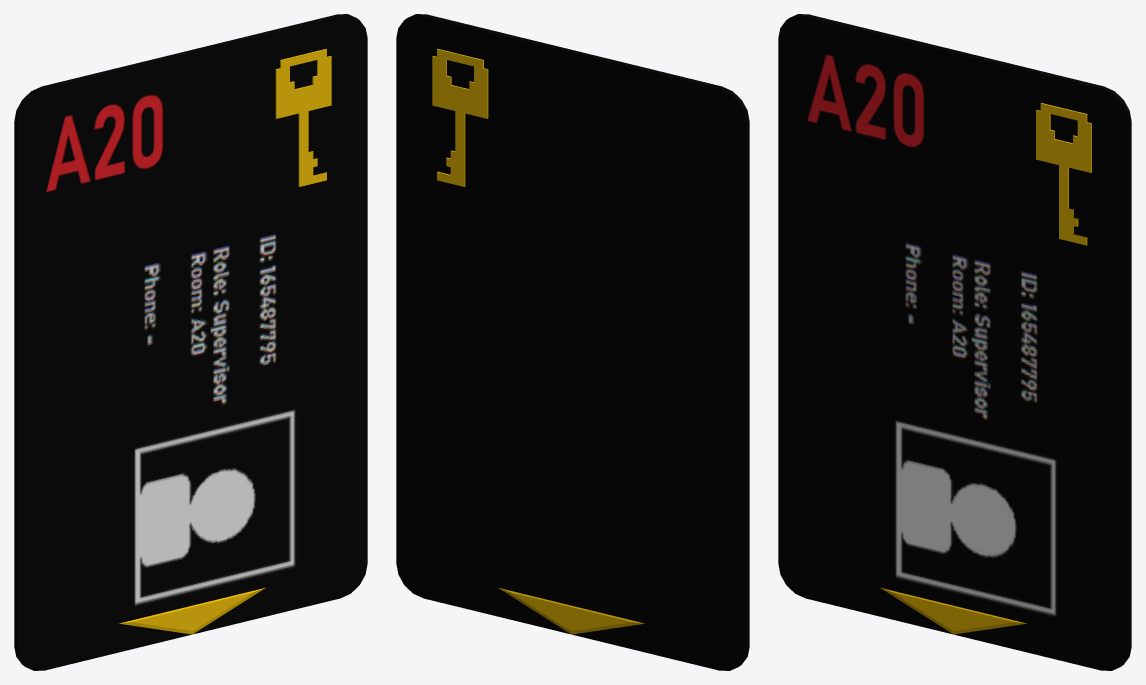
The model's file is simple_keycard.glb.
The picture shows the model from 3 angles, left to right: view 1: azimuth 30°, elevation 25°; view 2: azimuth 150°, elevation 25°; view 3: azimuth 330°, elevation 25°; orthographic projection.
Parts seen in each view (by area): view 1: Keycard; view 2: Keycard; view 3: Keycard.
Boxes of the visible parts, left/top/right/bottom form: Keycard: left=14, top=14, right=367, bottom=670; Keycard: left=396, top=14, right=749, bottom=670; Keycard: left=778, top=14, right=1131, bottom=670.
Size of the model in its own units: 24.89 by 39.47 by 0.5256.
4 materials, 3 textured.
